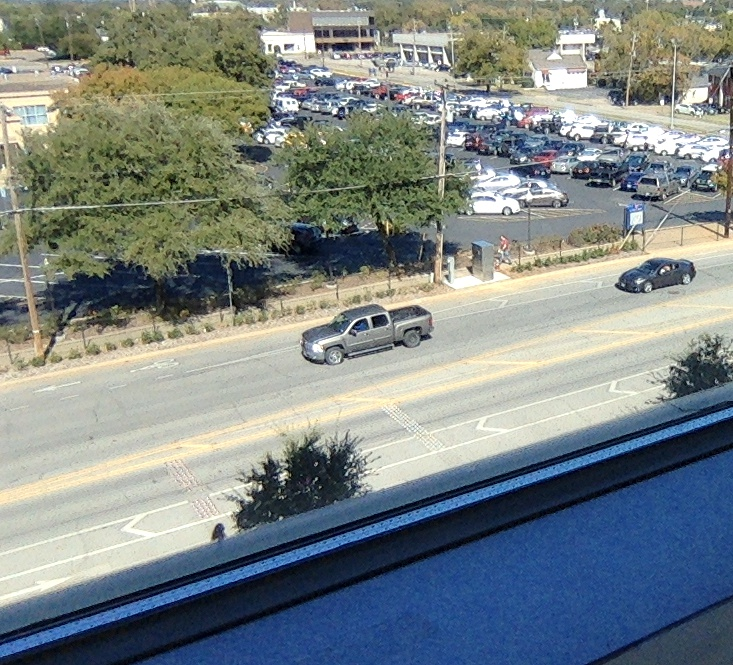car: (300, 300, 433, 365)
